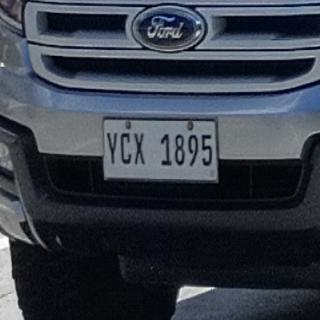license: (105, 121, 219, 182)
